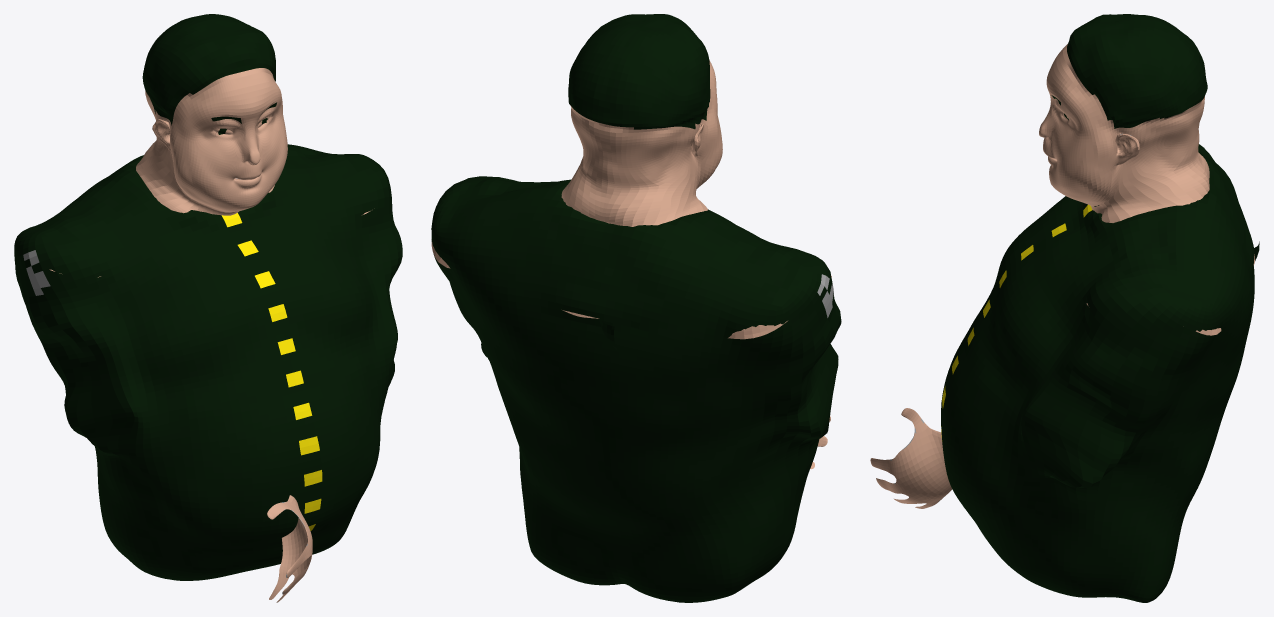
The model's file is corps kim.fbx.
3 views of the same model, side by side, from view 1: azimuth 30°, elevation 25°; view 2: azimuth 150°, elevation 25°; view 3: azimuth 270°, elevation 25° (orthographic). The views are drawn at different scales.
Parts seen in each view (by area): view 1: corps, bras_gauche; view 2: corps; view 3: corps, bras_gauche.
Part boxes in pixels (left/top/right/bottom): corps: left=14, top=14, right=402, bottom=580; bras_gauche: left=267, top=495, right=312, bottom=602; corps: left=431, top=14, right=841, bottom=602; corps: left=941, top=14, right=1255, bottom=602; bras_gauche: left=870, top=241, right=1259, bottom=508.
Size of the model in its own units: 2.41 by 3.41 by 2.21.
